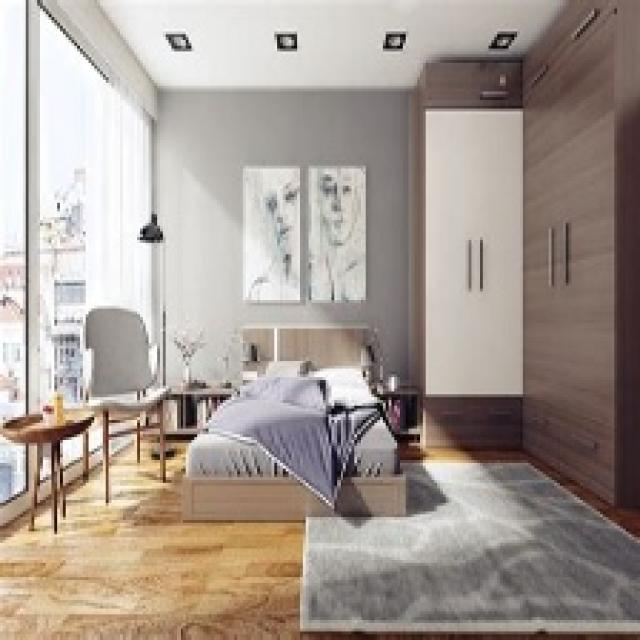Bed: (180, 323, 406, 520)
